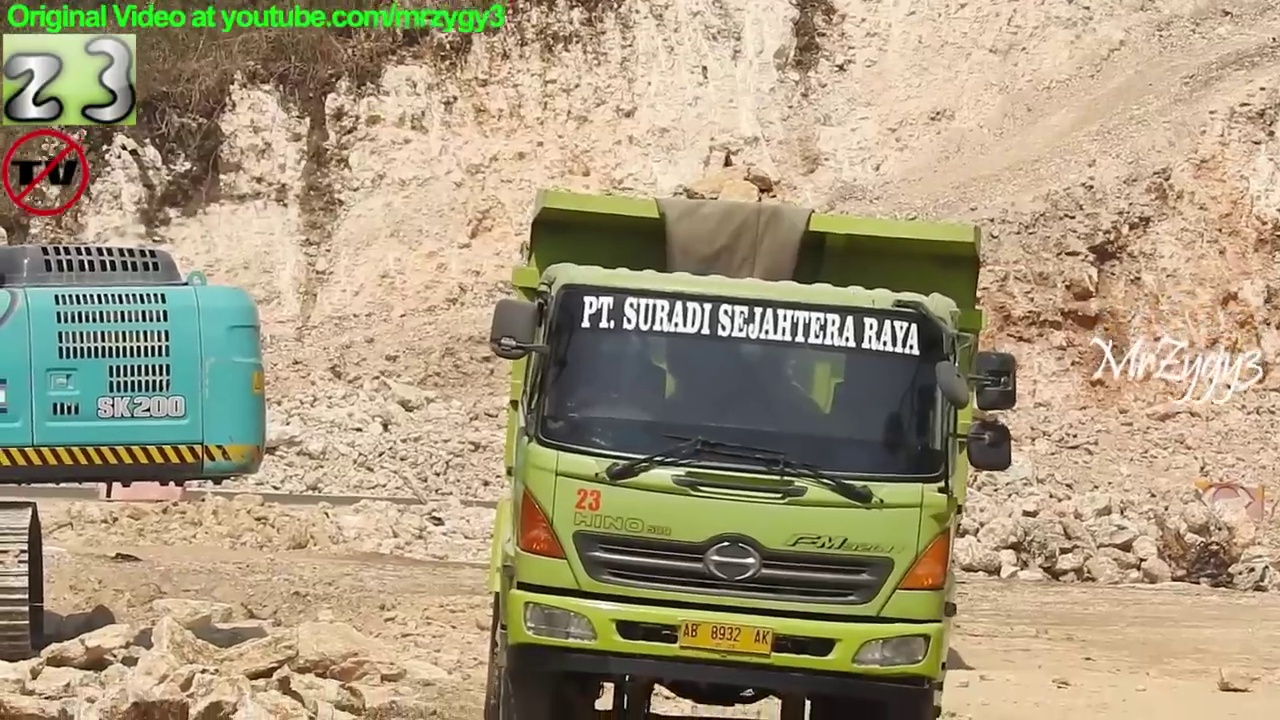excavator: (478, 185, 1030, 720), (1, 195, 282, 672)
